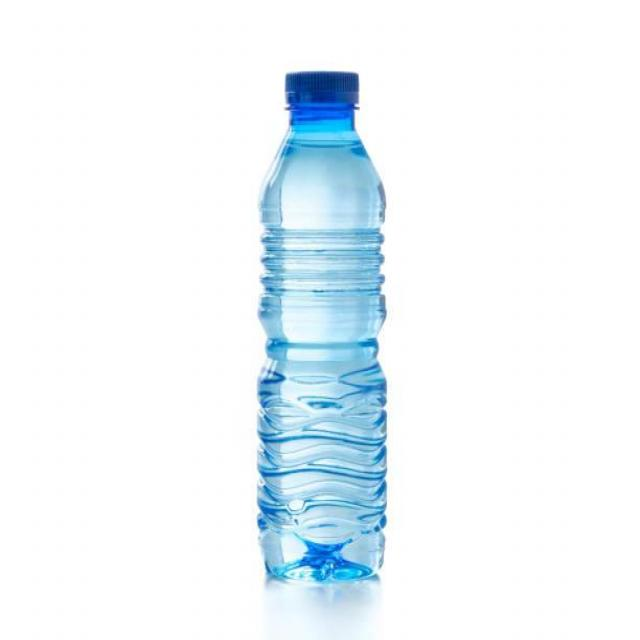bottle: (236, 53, 399, 598)
